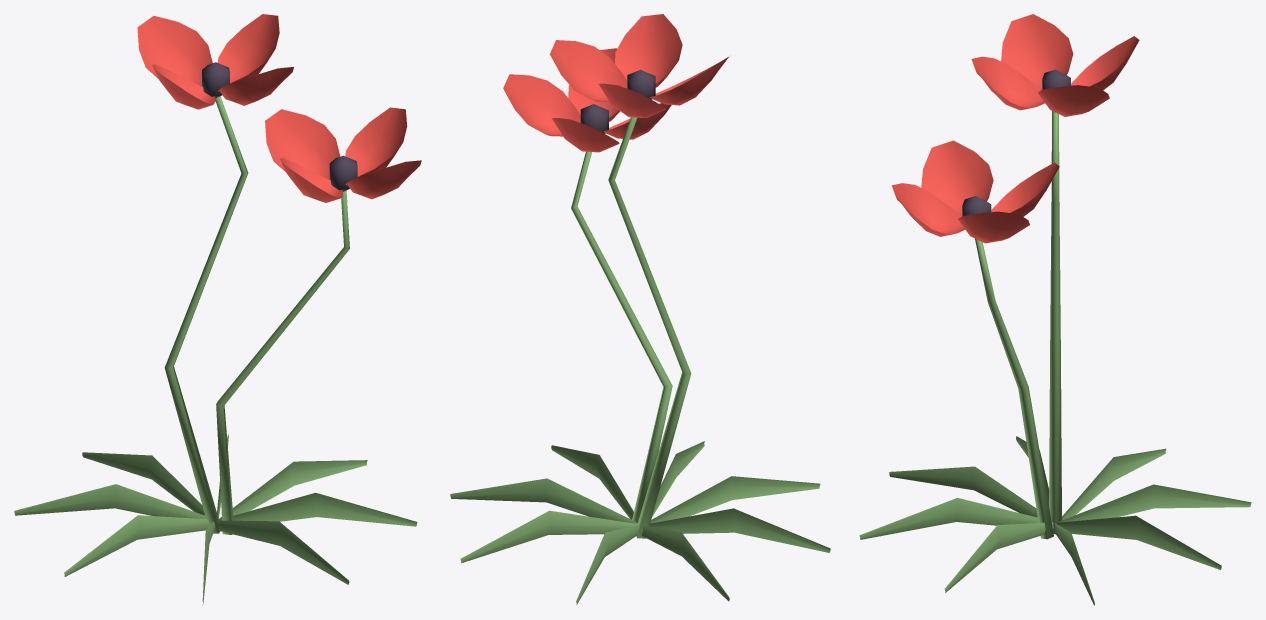
File: flower_corn_poppy.glb
3 renders of one model, left to right at view 1: azimuth 30°, elevation 25°; view 2: azimuth 150°, elevation 25°; view 3: azimuth 270°, elevation 25°, orthographic.
Visible parts, largest first — view 1: Flora_Corn_Poppy; view 2: Flora_Corn_Poppy; view 3: Flora_Corn_Poppy.
Part boxes in pixels (bbox=[...]): Flora_Corn_Poppy: bbox=[14, 14, 421, 605]; Flora_Corn_Poppy: bbox=[450, 14, 830, 604]; Flora_Corn_Poppy: bbox=[859, 14, 1251, 605].
Size of the model in its own units: 0.59 by 0.8058 by 0.59.
